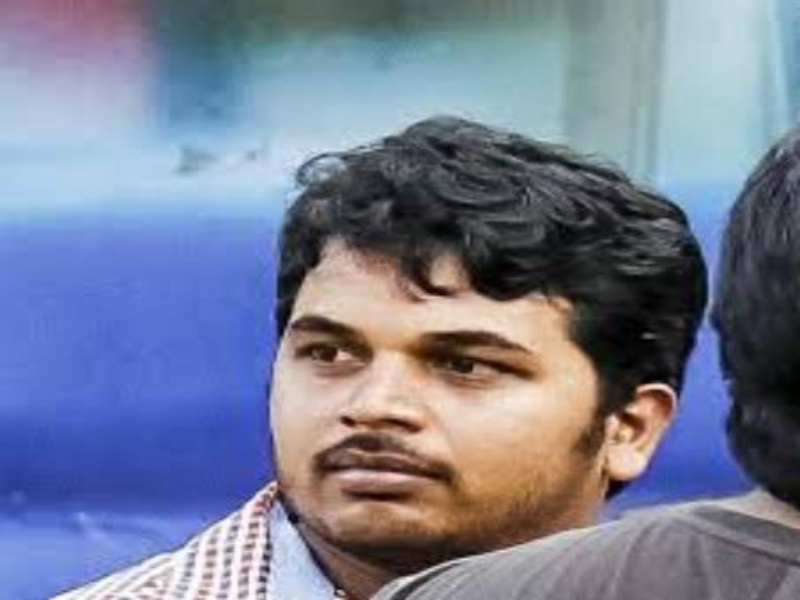TsisyArotava: (239, 159, 644, 579)
